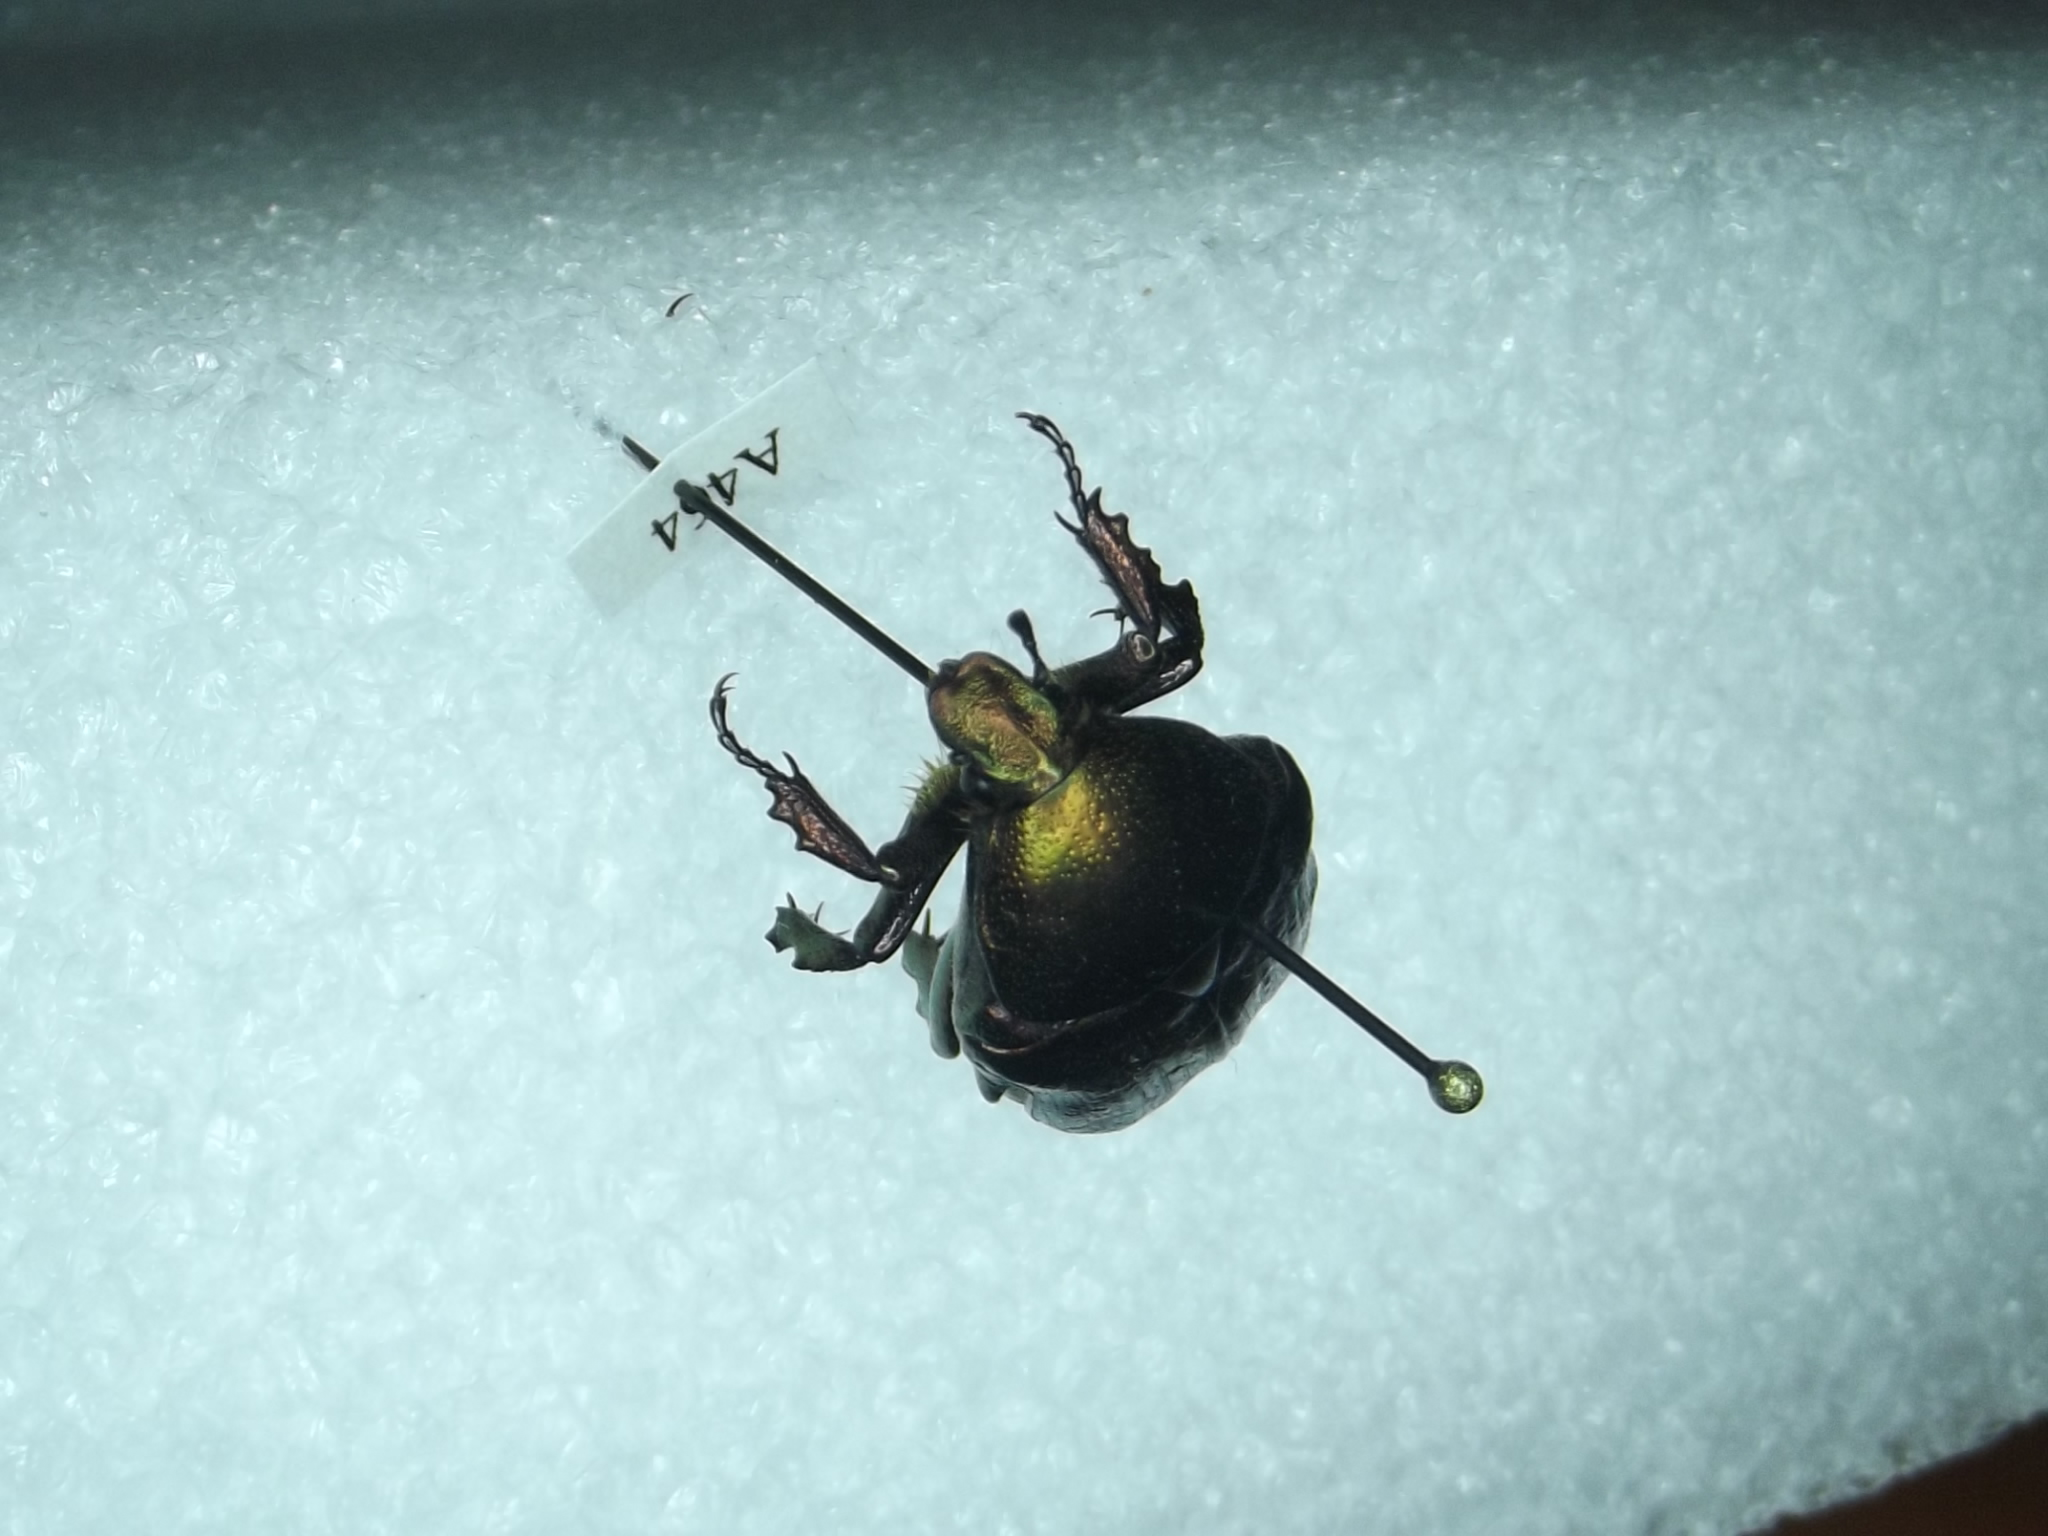Cetonia_kemali: (672, 402, 1329, 1146)
